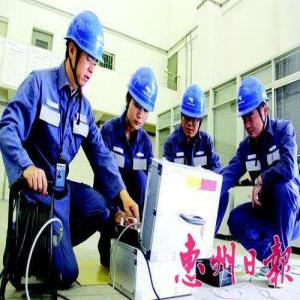blue: (67, 12, 106, 88), (237, 76, 271, 138), (127, 68, 159, 132), (181, 84, 209, 138)
